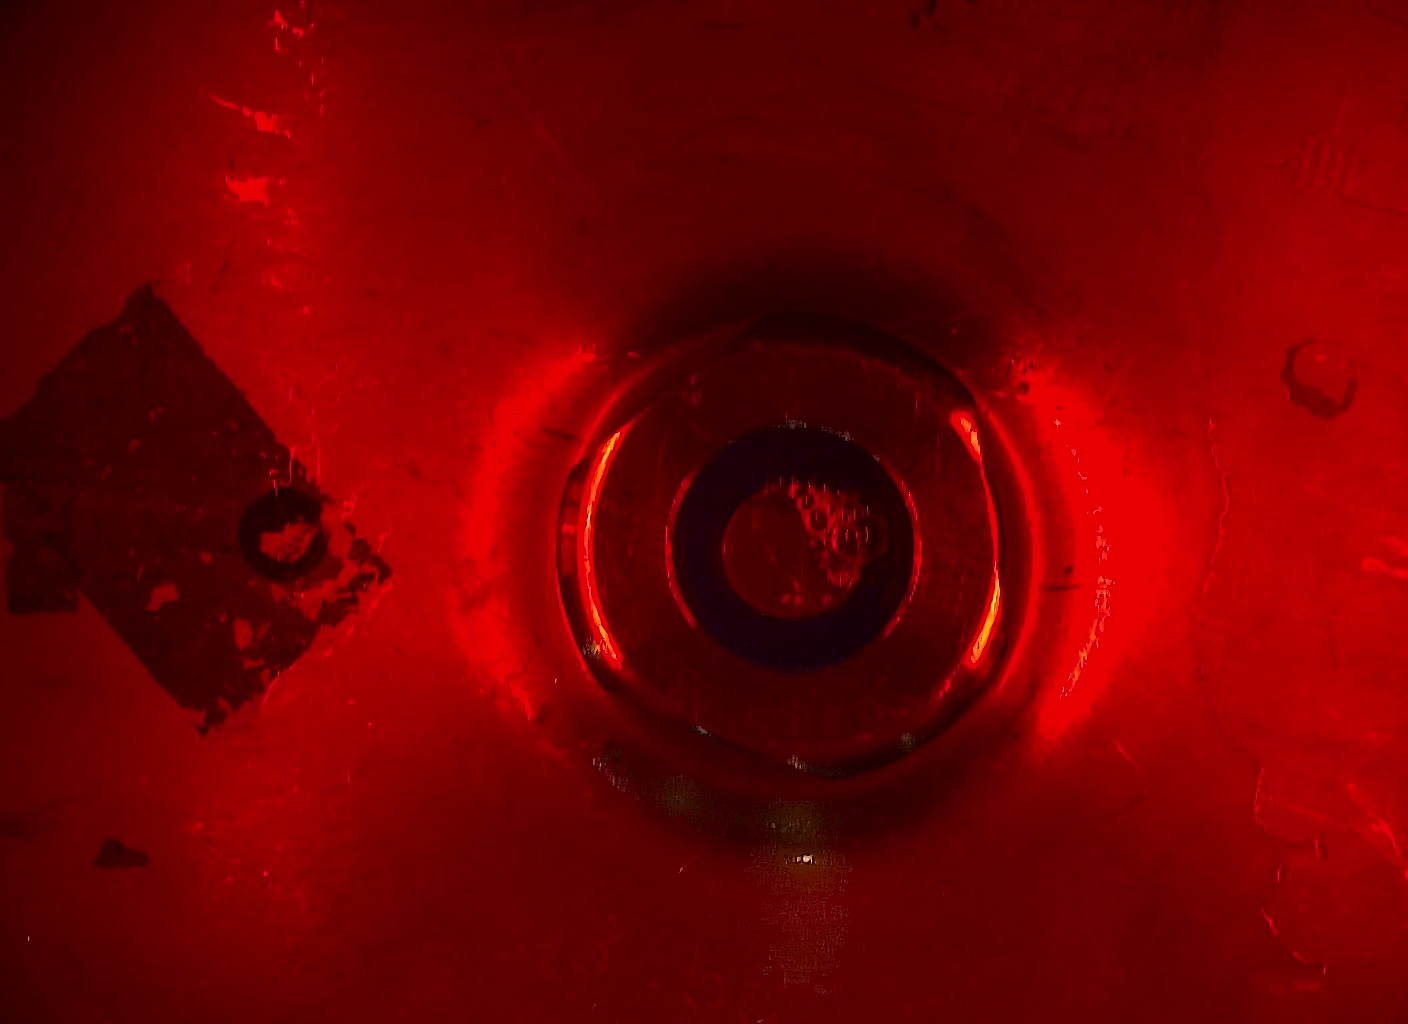pena: (768, 467, 887, 605)
